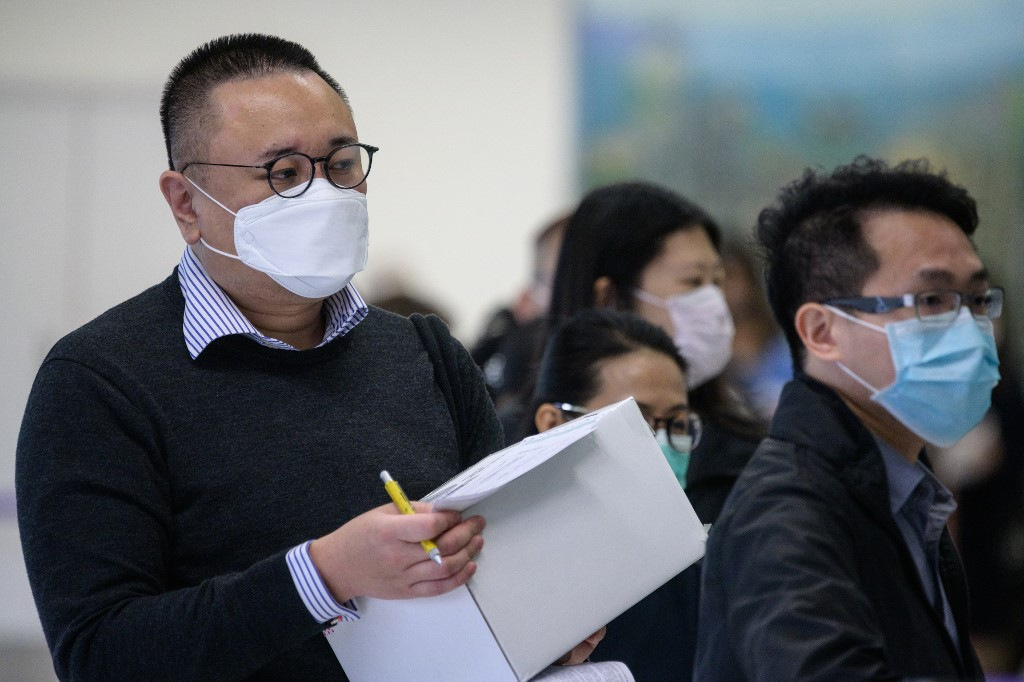with_mask: (180, 78, 395, 314), (808, 197, 1004, 445), (565, 327, 707, 529), (604, 209, 757, 382)
